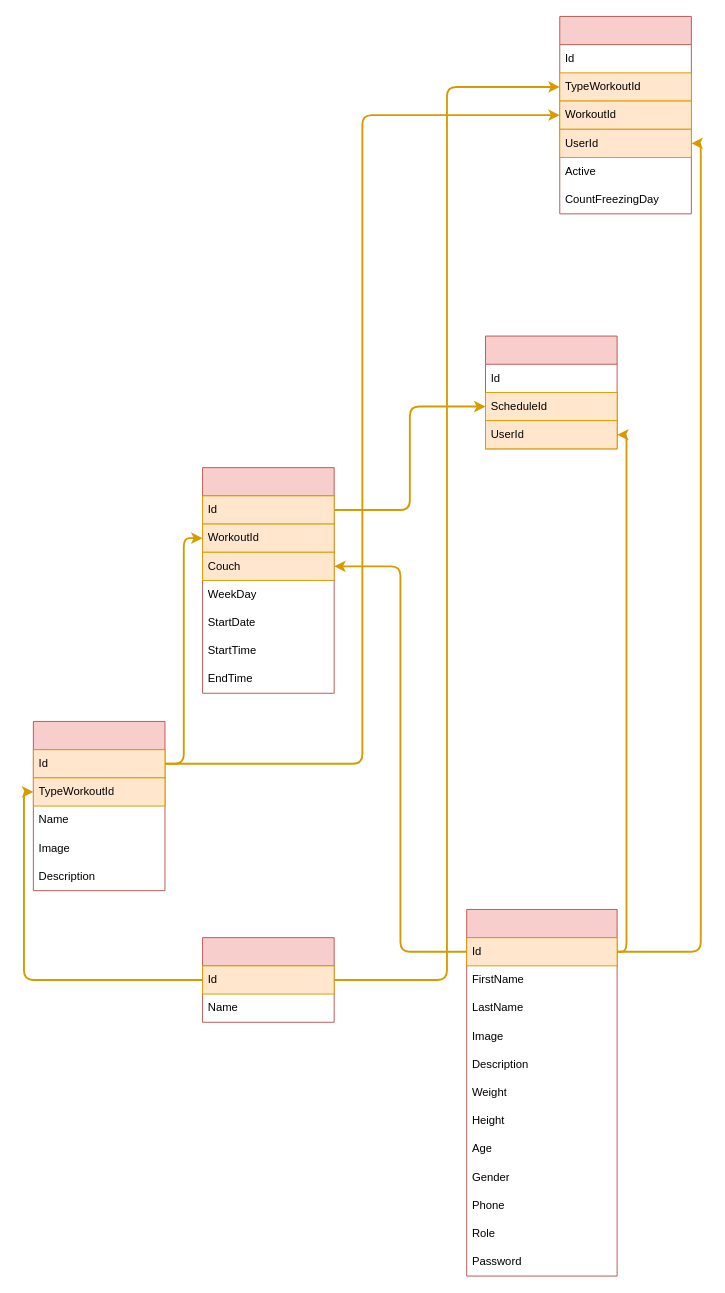
Some shapes in this 725 by 1293 pixel diagram are drawn without their labels. Each missing label, with the box of its shape:
HistoryWorkouts: (559, 16, 691, 214)
Records: (485, 335, 617, 449)
Schedules: (202, 467, 334, 693)
TypeWorkouts: (202, 937, 334, 1022)
Users: (466, 909, 617, 1276)
Workouts: (32, 721, 165, 891)
